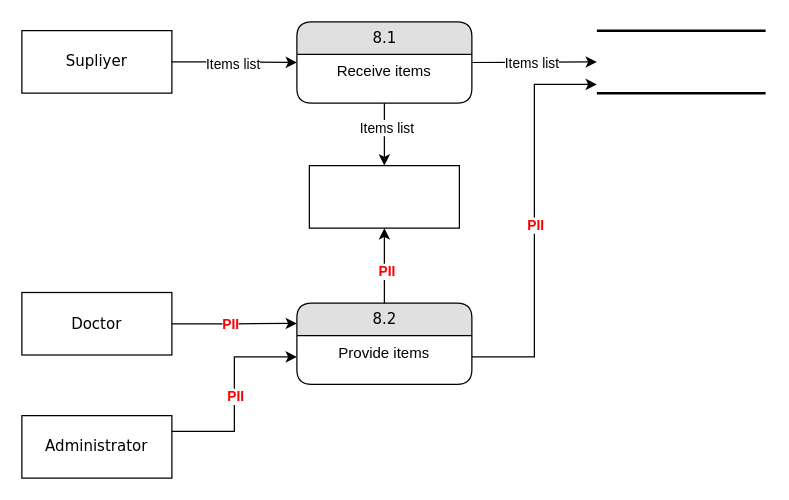
This 789x500 diagram has some shape labels left out. The shapes that lost their labels are listed below. From the top down, each one's centre as x and y in pixels, then its label:
At (680,61): "Warehouse System".
At (383,196): "Warehouse Keeper".
